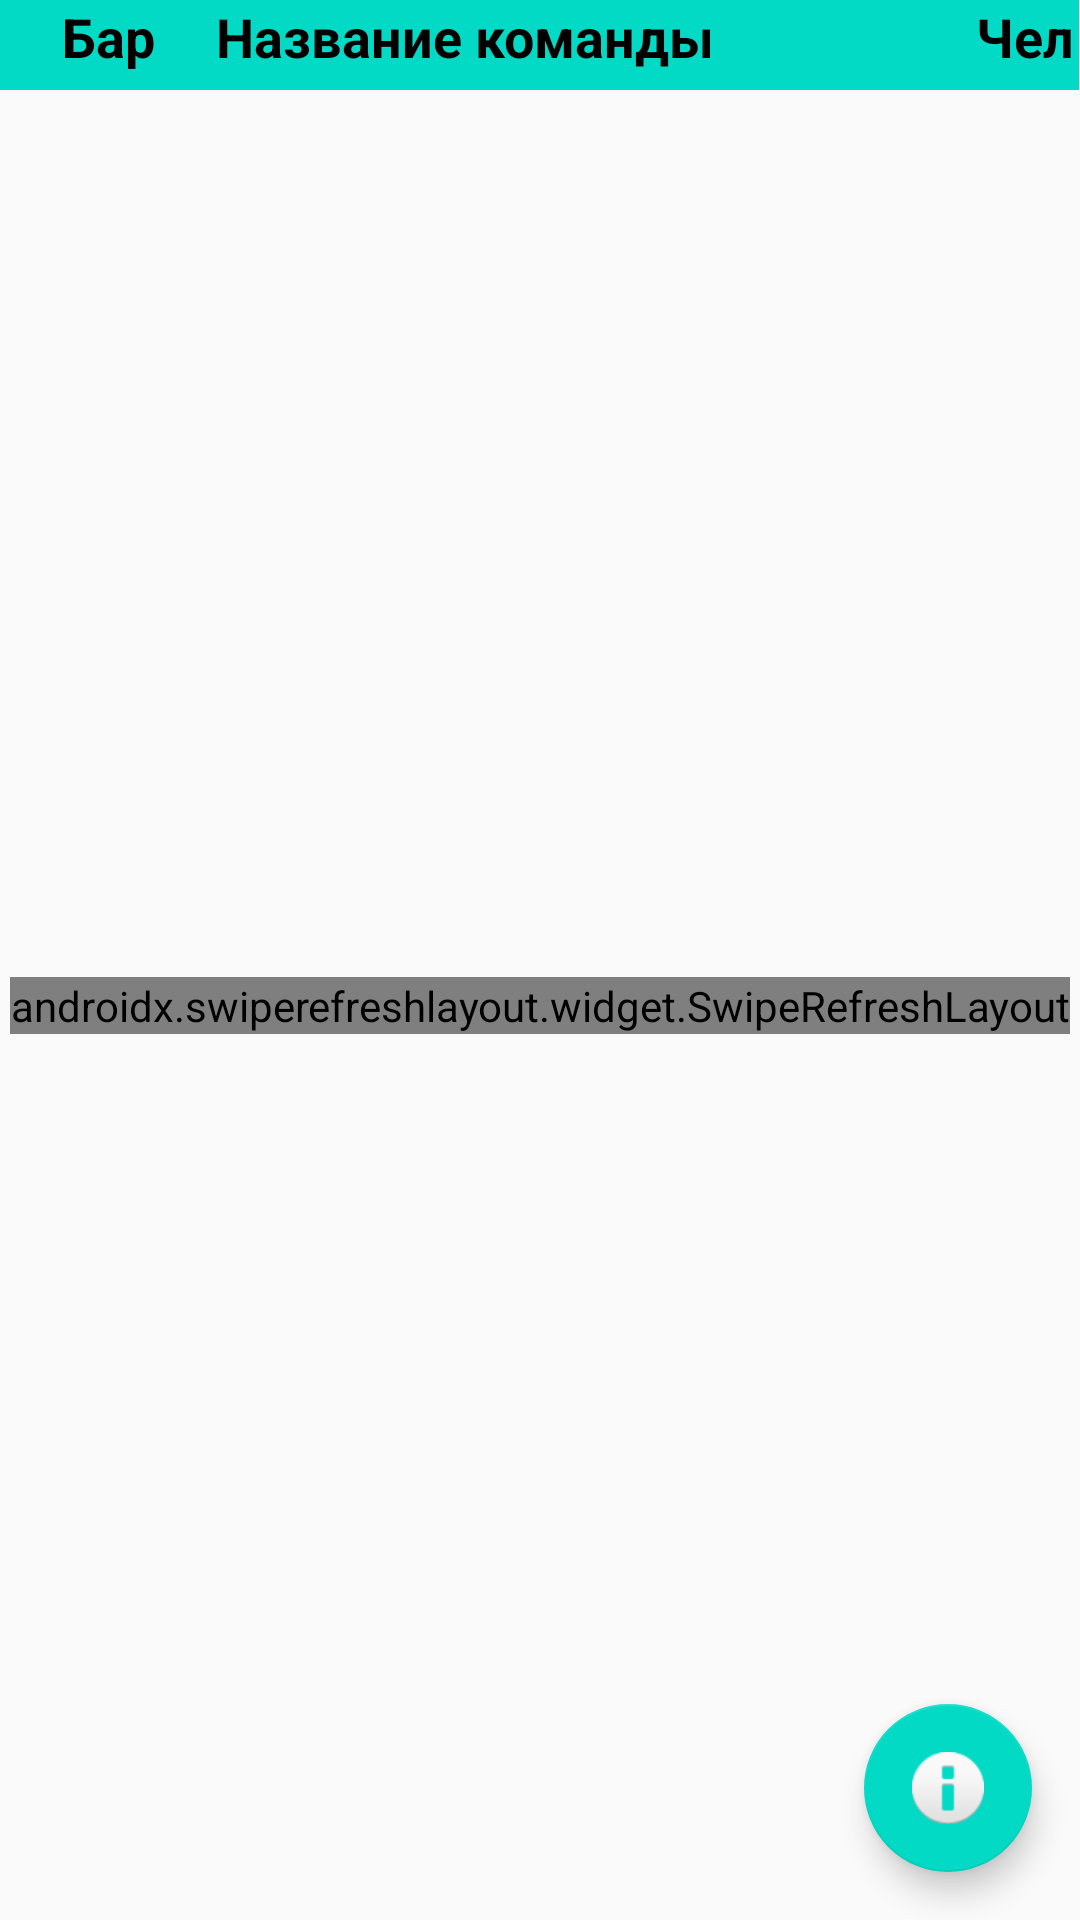

Screen size 1080px x 1920px. Icon name, then its center in pixels as (x,y):
info: (948,1788)
